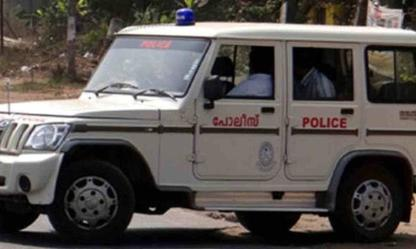priority: (0, 8, 415, 249)
